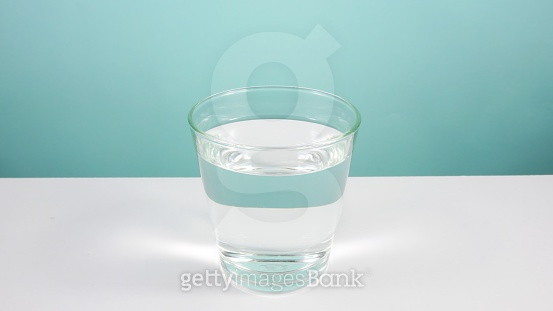glass of water: (183, 84, 371, 311)
